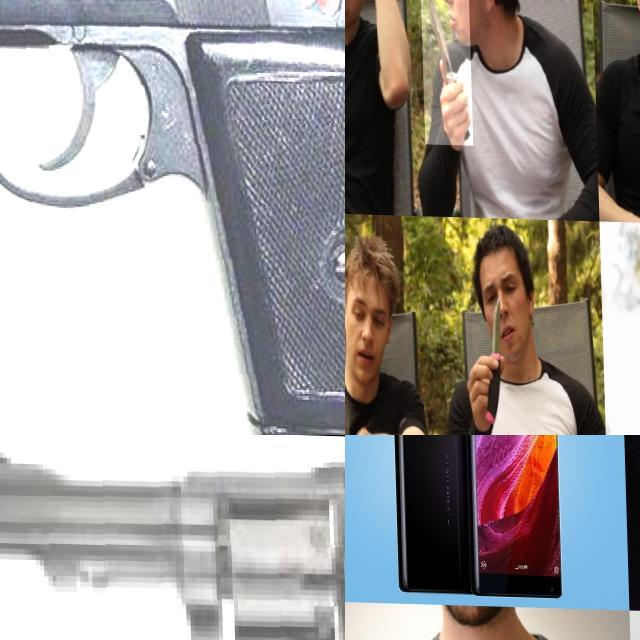-: (419, 0, 472, 144), (468, 286, 503, 430)
gun-knife-thesis - v11 Yolov5 augmented: (0, 0, 345, 435), (0, 435, 345, 640)
